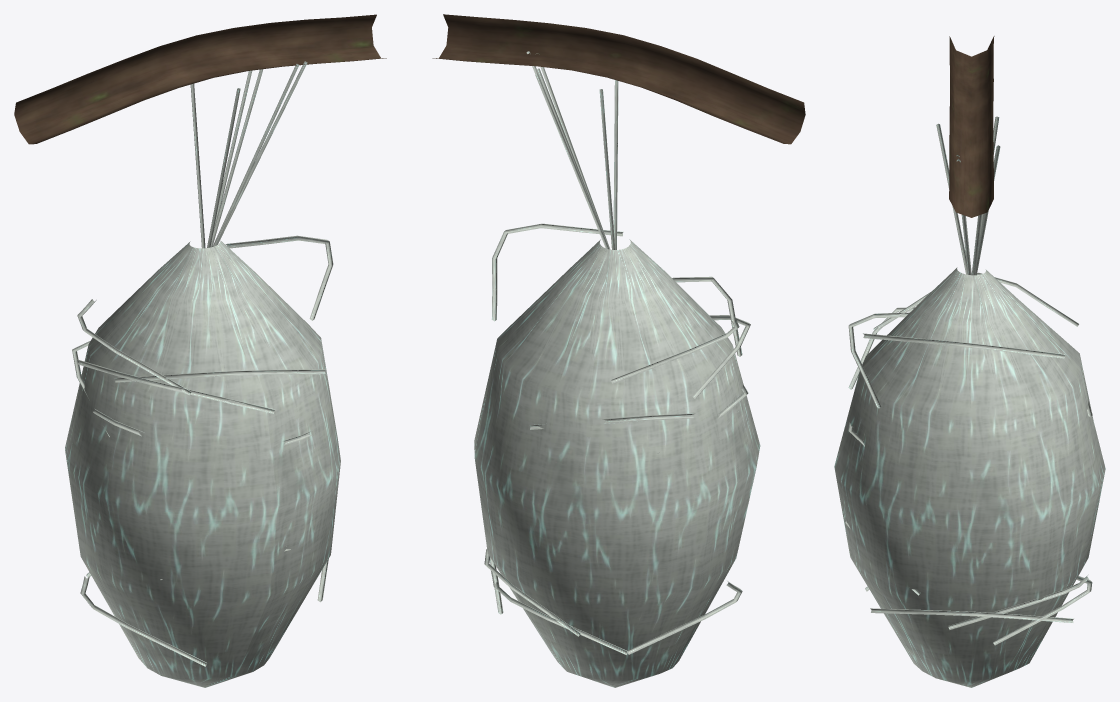
Rendered from hanging_forest_cocoon.glb.
3 views of the same model, side by side, from view 1: azimuth 30°, elevation 25°; view 2: azimuth 150°, elevation 25°; view 3: azimuth 270°, elevation 25° (orthographic). The views are drawn at different scales.
Parts seen in each view (by area): view 1: hanging_forest_cocoon__silk, hanging_forest_cocoon__root; view 2: hanging_forest_cocoon__silk, hanging_forest_cocoon__root; view 3: hanging_forest_cocoon__silk, hanging_forest_cocoon__root.
Boxes of the visible parts, x1,y1,x2,y2 form: hanging_forest_cocoon__silk: (65, 61, 340, 687); hanging_forest_cocoon__root: (14, 14, 386, 144); hanging_forest_cocoon__silk: (474, 51, 760, 687); hanging_forest_cocoon__root: (432, 14, 805, 144); hanging_forest_cocoon__silk: (834, 116, 1105, 687); hanging_forest_cocoon__root: (949, 36, 994, 217).
Size of the model in its own units: 1.62 by 2.79 by 1.12.
Materials: 2 (2 with a texture image).
